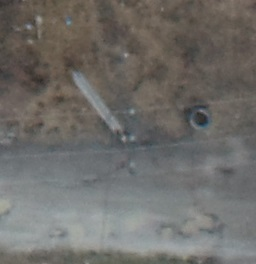opora: (71, 68, 139, 173)
